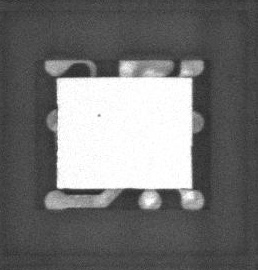DIE_INK: (92, 117, 97, 123)
